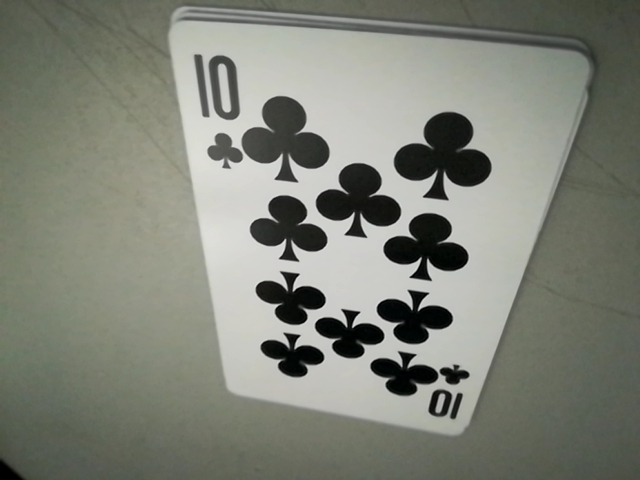mh 10: (183, 36, 242, 176), (428, 355, 475, 422)
